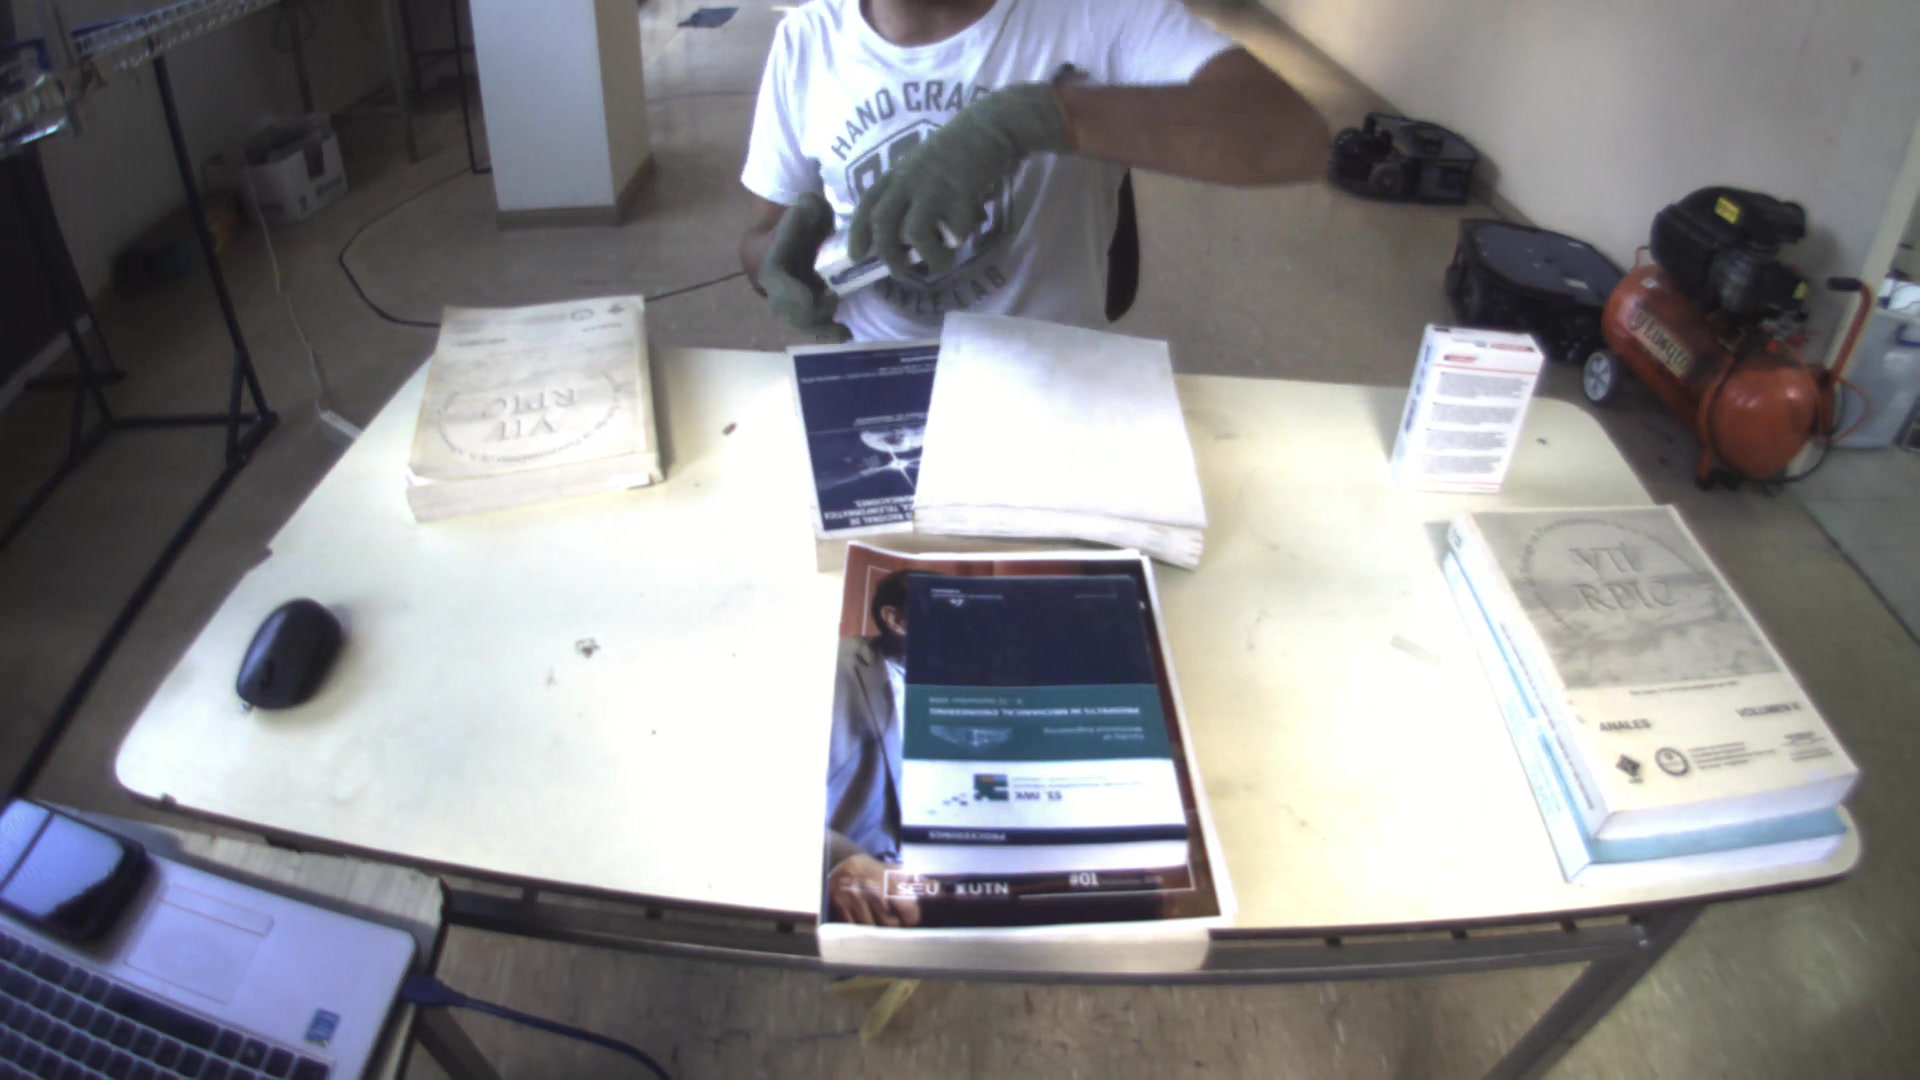hand: (847, 83, 1059, 272), (744, 174, 839, 319)
